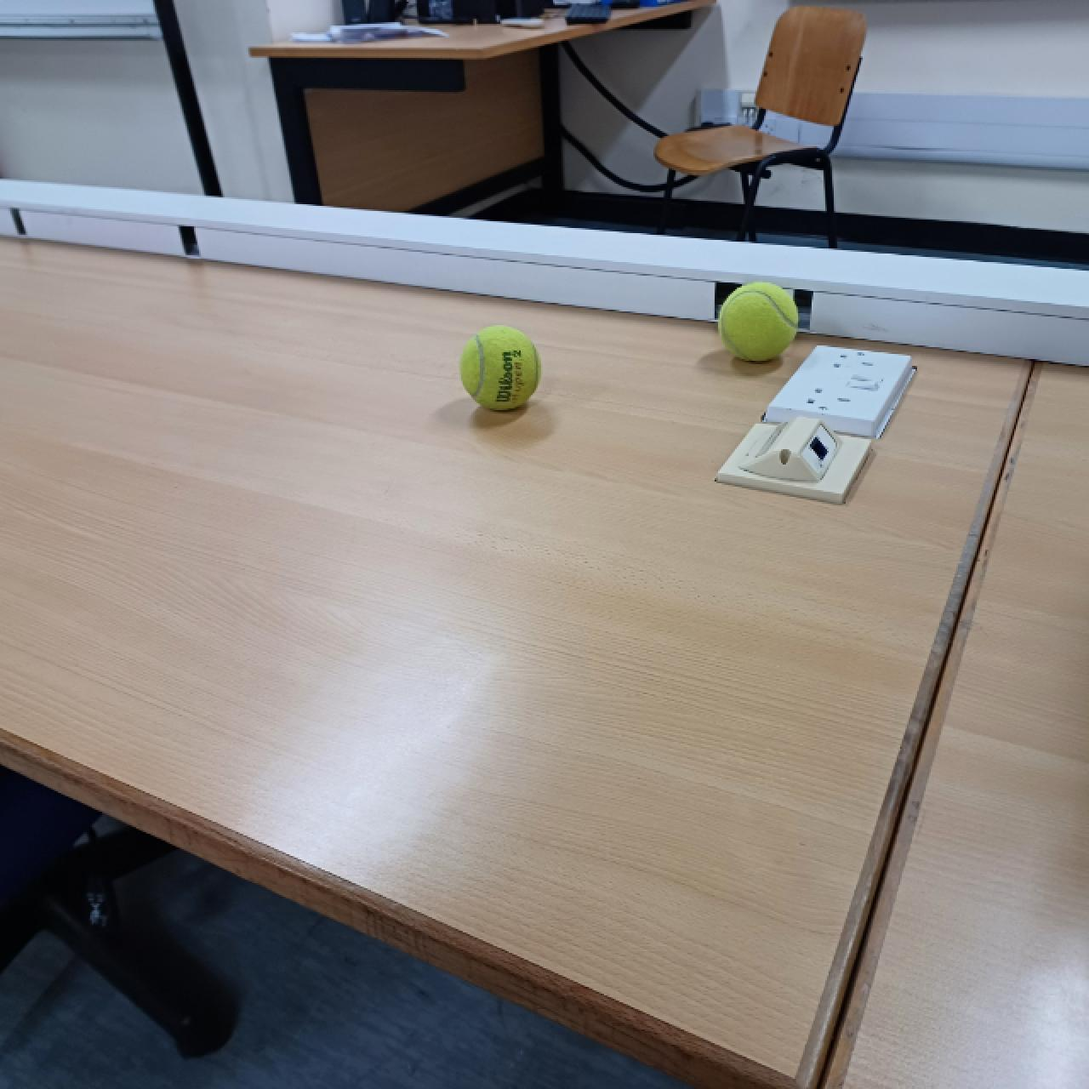tennis-ball: (461, 323, 541, 416), (719, 280, 800, 365)
